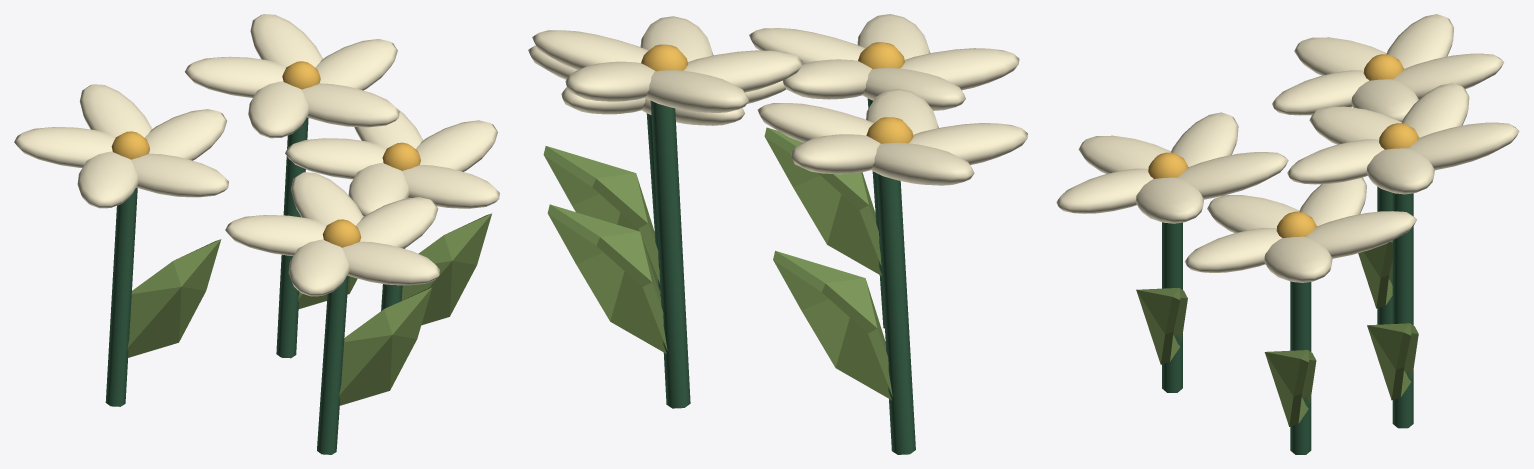
The model's file is flower_patch.glb.
The picture shows the model from 3 angles, left to right: view 1: azimuth 30°, elevation 25°; view 2: azimuth 150°, elevation 25°; view 3: azimuth 270°, elevation 25°; orthographic projection. The views are drawn at different scales.
Parts seen in each view (by area): view 1: WildflowerStems, Sculpted petal.039, Sculpted petal.044, Sculpted petal.049, Sculpted petal.034, Sculpted petal.032, Sculpted petal.037, Sculpted petal.042, Sculpted petal.047, Sculpted petal.040, Sculpted petal.035, Sculpted petal.045 (+13 smaller); view 2: WildflowerStems, Sculpted petal.037, Sculpted petal.047, Sculpted petal.048, Sculpted petal.043, Sculpted petal.038, Sculpted petal.035, Sculpted petal.045, Sculpted petal.046, Sculpted petal.036, Sculpted petal.041, Sculpted petal.040 (+10 smaller); view 3: WildflowerStems, Sculpted petal.046, Sculpted petal.041, Sculpted petal.031, Sculpted petal.044, Sculpted petal.049, Sculpted petal.034, Sculpted petal.036, Sculpted petal.039, Sculpted petal.045, Sculpted petal.030, Sculpted petal.040 (+13 smaller).
Part boxes in pixels (bbox=[...]): WildflowerStems: bbox=[105, 117, 491, 454]; Sculpted petal.039: bbox=[131, 153, 228, 197]; Sculpted petal.044: bbox=[342, 241, 439, 285]; Sculpted petal.049: bbox=[302, 83, 399, 127]; Sculpted petal.034: bbox=[402, 164, 499, 208]; Sculpted petal.032: bbox=[285, 138, 386, 179]; Sculpted petal.037: bbox=[14, 127, 115, 167]; Sculpted petal.042: bbox=[225, 215, 326, 255]; Sculpted petal.047: bbox=[185, 56, 286, 97]; Sculpted petal.040: bbox=[356, 197, 438, 248]; Sculpted petal.035: bbox=[145, 109, 226, 160]; Sculpted petal.045: bbox=[315, 39, 397, 90]; WildflowerStems: bbox=[543, 98, 915, 454]; Sculpted petal.037: bbox=[870, 142, 974, 185]; Sculpted petal.047: bbox=[645, 70, 748, 112]; Sculpted petal.048: bbox=[684, 50, 802, 92]; Sculpted petal.043: bbox=[900, 48, 1019, 90]; Sculpted petal.038: bbox=[909, 123, 1027, 164]; Sculpted petal.035: bbox=[757, 103, 873, 142]; Sculpted petal.045: bbox=[532, 30, 648, 69]; Sculpted petal.046: bbox=[565, 61, 655, 101]; Sculpted petal.036: bbox=[791, 134, 880, 174]; Sculpted petal.041: bbox=[783, 59, 871, 99]; Sculpted petal.040: bbox=[749, 28, 865, 64]; WildflowerStems: bbox=[1136, 186, 1418, 454]; Sculpted petal.046: bbox=[1408, 122, 1519, 170]; Sculpted petal.041: bbox=[1177, 152, 1288, 199]; Sculpted petal.031: bbox=[1306, 211, 1416, 258]; Sculpted petal.044: bbox=[1056, 168, 1153, 213]; Sculpted petal.049: bbox=[1287, 139, 1384, 184]; Sculpted petal.034: bbox=[1185, 228, 1281, 272]; Sculpted petal.036: bbox=[1393, 53, 1503, 99]; Sculpted petal.039: bbox=[1272, 70, 1368, 115]; Sculpted petal.045: bbox=[1366, 148, 1434, 194]; Sculpted petal.030: bbox=[1264, 236, 1332, 282]; Sculpted petal.040: bbox=[1135, 177, 1203, 223].
Size of the model in its own units: 0.6359 by 0.4286 by 0.5749.
